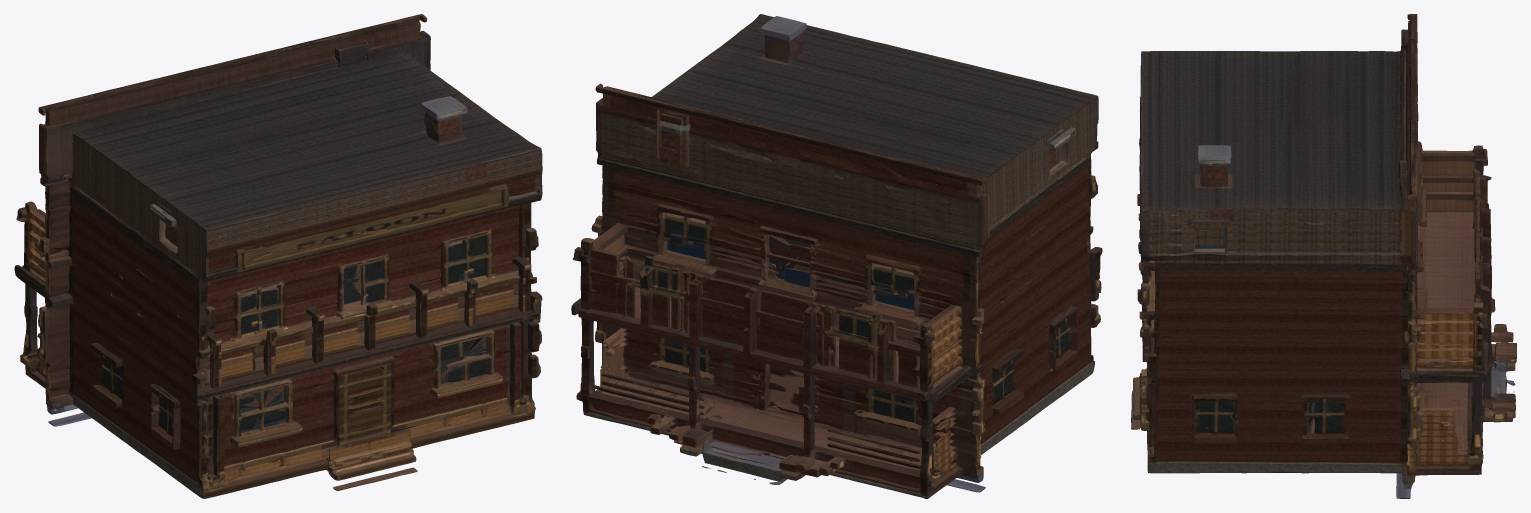
File: scene-1-objects-0-glbData-3853eff0915d.glb
3 views of the same model, side by side, from view 1: azimuth 30°, elevation 25°; view 2: azimuth 150°, elevation 25°; view 3: azimuth 270°, elevation 25° (orthographic). The views are drawn at different scales.
Parts seen in each view (by area): view 1: Saloon_Optimized; view 2: Saloon_Optimized; view 3: Saloon_Optimized.
Boxes of the visible parts, <box> form: Saloon_Optimized: <box>14,14,542,498</box>; Saloon_Optimized: <box>571,14,1102,498</box>; Saloon_Optimized: <box>1131,14,1516,498</box>.
Bounding box in the file's own units: 9 × 7.09 × 7.99.
Materials: 1 (1 with a texture image).
